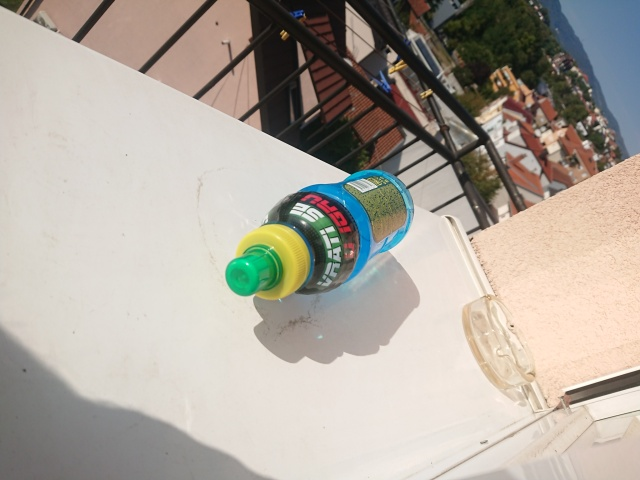Vindi Iso Sport Forest Strawberries 500mL: (223, 166, 417, 304)
